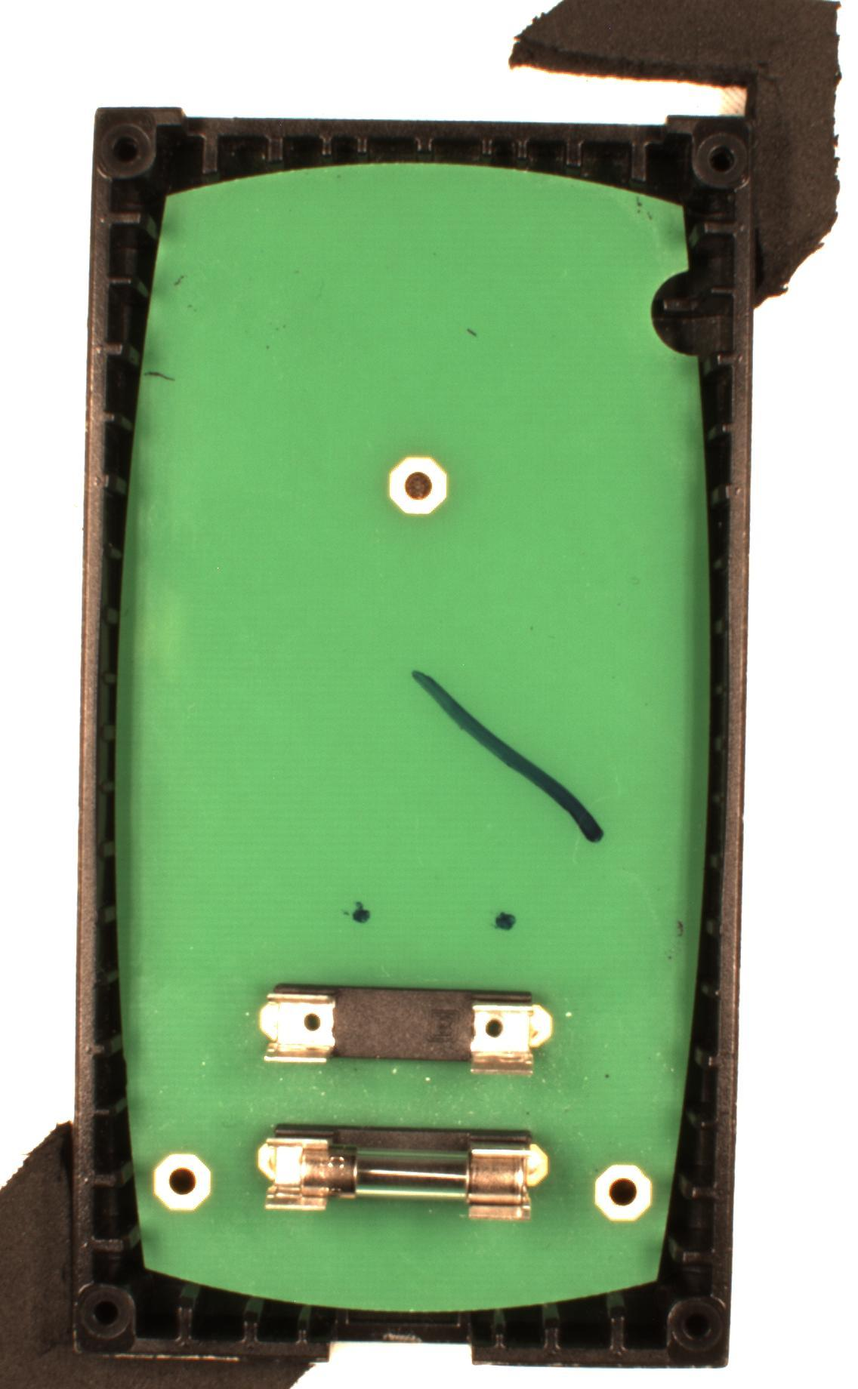Linijsko Ostecene: (409, 666, 606, 846)
Nepostojanje osiguraca: (258, 980, 556, 1078)
Tockasto Ostecenje: (341, 901, 372, 924), (491, 910, 517, 932)
